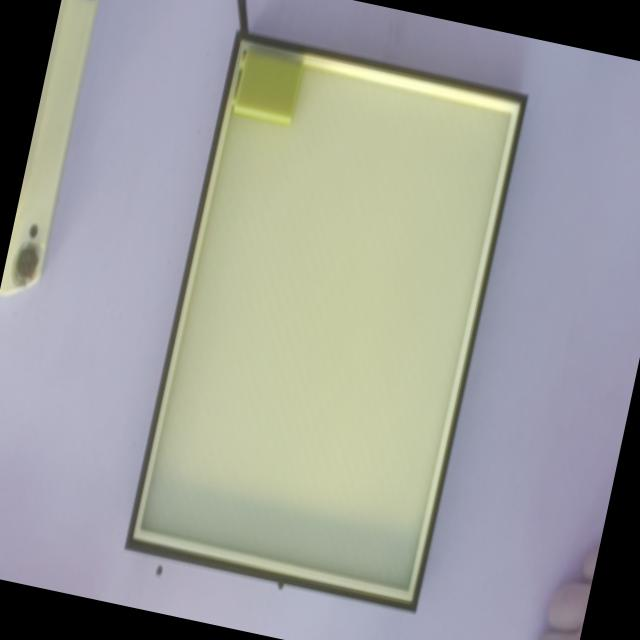bateria: (230, 45, 304, 121)
mesa: (124, 29, 528, 612)
